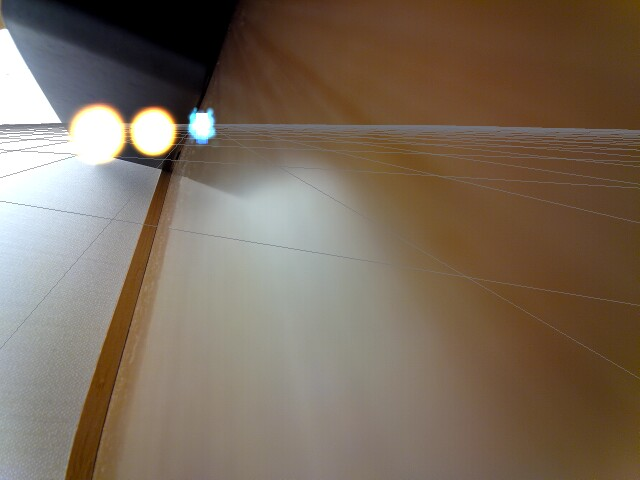firebig: (66, 97, 126, 172)
